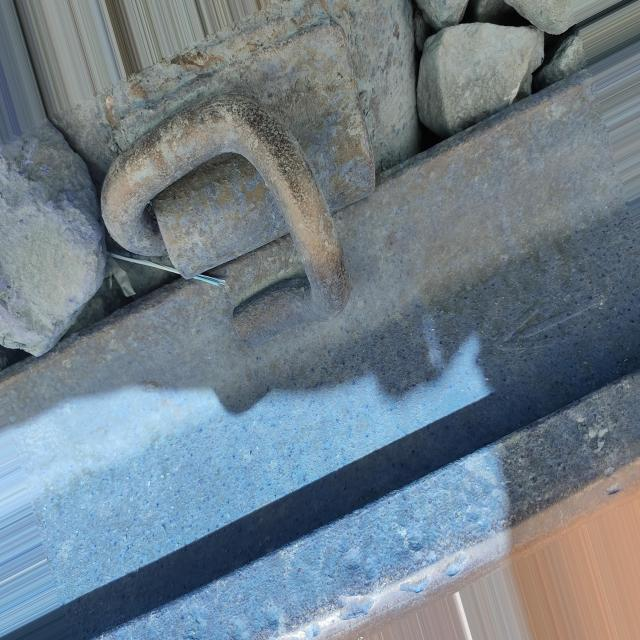Good Fasteners: (59, 0, 420, 346)
